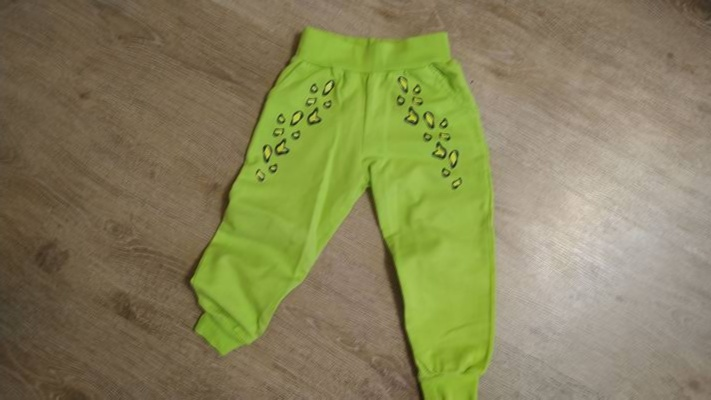Pants: (184, 12, 531, 400)
